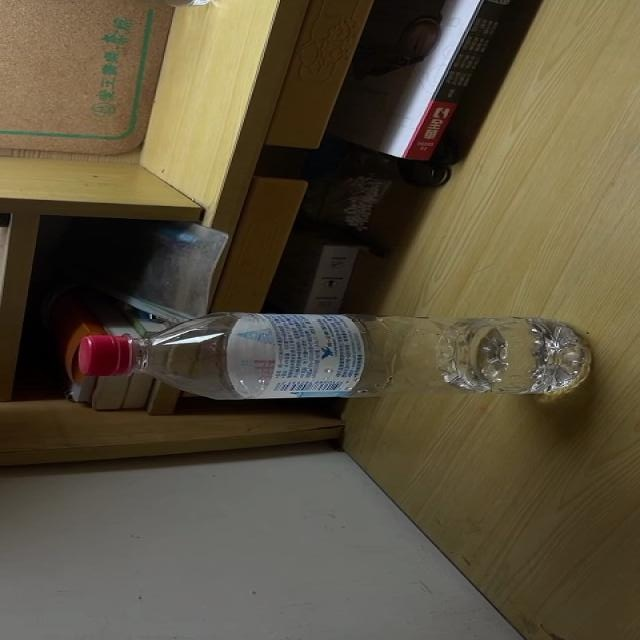Water: (77, 313, 592, 399)
